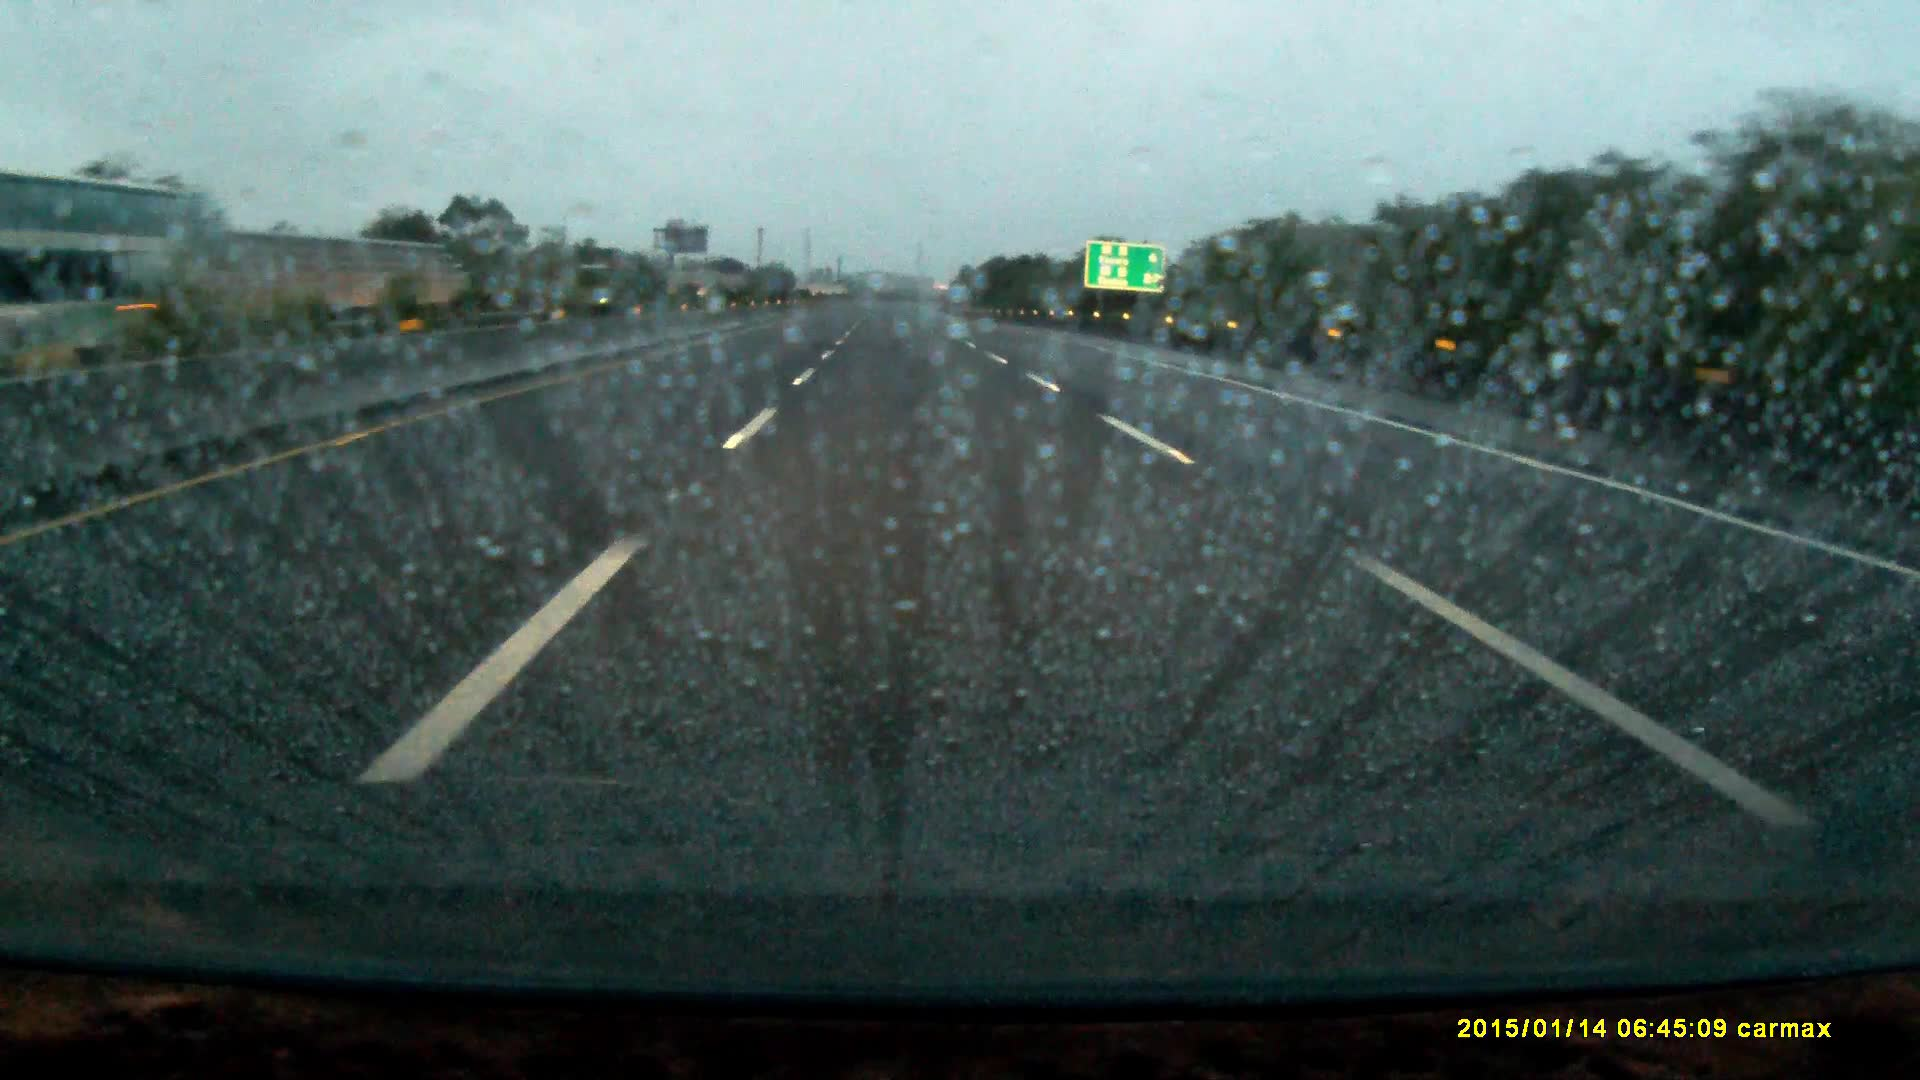vehicle: (1, 171, 232, 355), (572, 264, 647, 309)
